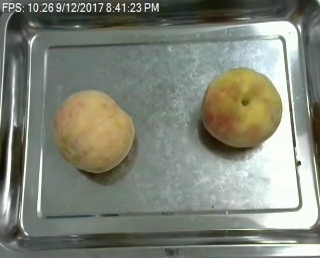Peach: (52, 88, 135, 173), (200, 67, 282, 148)
